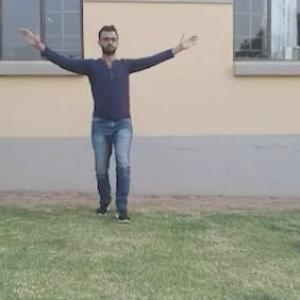takeoff: (25, 21, 198, 215)
